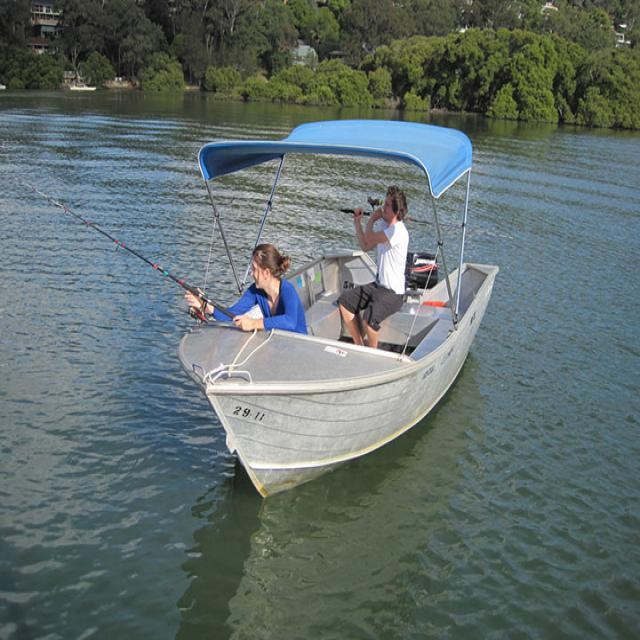ship: (173, 112, 504, 510)
